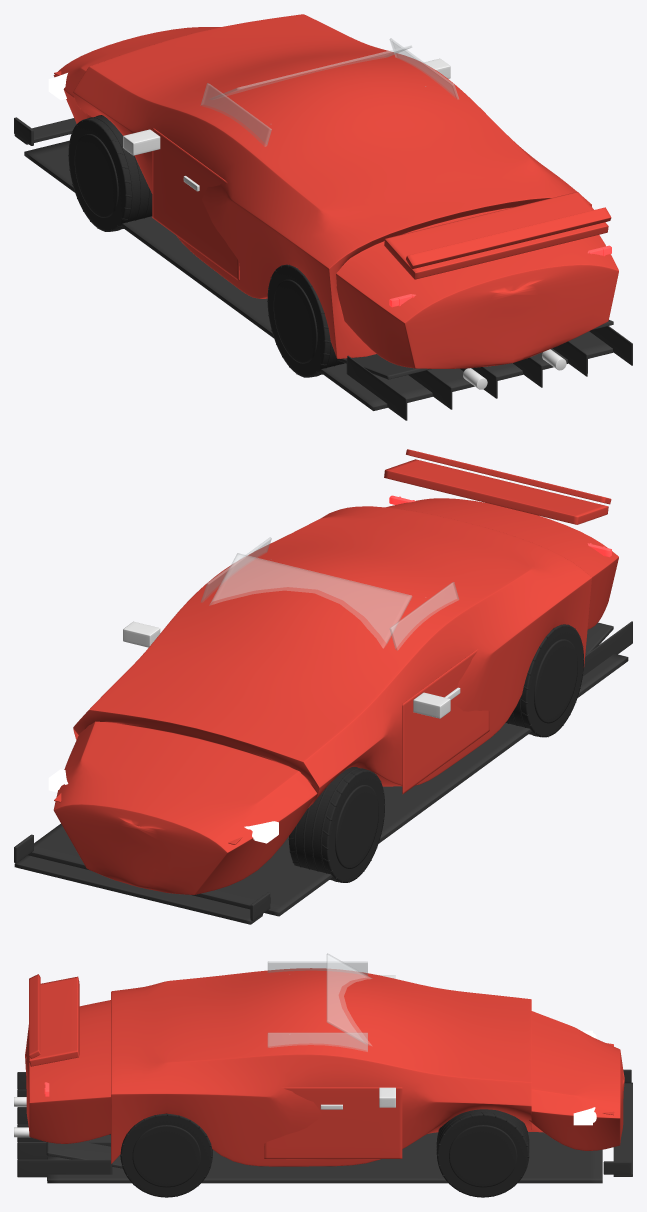
Rendered from vehicle.glb.
3 views of the same model, one above another, from view 1: azimuth 30°, elevation 25°; view 2: azimuth 150°, elevation 25°; view 3: azimuth 270°, elevation 25° (orthographic). The views are drawn at different scales.
Parts seen in each view (by area): view 1: BODY_MainShell, UNDERBODY_FlatFloor, AERO_SCRS_WhaleTailWing, WHEEL_FL_Tire, BODY_Door_FL, WHEEL_RL_Tire, GLASS_Greenhouse, JEWELRY_Hardware, AERO_FrontSplitter, JEWELRY_SCRS_DualExhaust; view 2: BODY_MainShell, UNDERBODY_FlatFloor, GLASS_Greenhouse, WHEEL_FL_Tire, AERO_SCRS_WhaleTailWing, BODY_Door_FL, WHEEL_RL_Tire, AERO_FrontSplitter, JEWELRY_Hardware, LIGHTING_Headlamps; view 3: BODY_MainShell, UNDERBODY_FlatFloor, BODY_Door_FR, WHEEL_FR_Tire, WHEEL_RR_Tire, AERO_SCRS_WhaleTailWing, GLASS_Greenhouse, AERO_FrontSplitter, JEWELRY_Hardware, LIGHTING_Headlamps.
Boxes of the visible parts, box(x1,y1,x2,y2) form: BODY_MainShell: box(53, 14, 618, 368); UNDERBODY_FlatFloor: box(24, 140, 632, 420); AERO_SCRS_WhaleTailWing: box(384, 192, 611, 279); WHEEL_FL_Tire: box(68, 115, 152, 231); BODY_Door_FL: box(152, 127, 239, 281); WHEEL_RL_Tire: box(267, 264, 344, 377); GLASS_Greenhouse: box(201, 38, 458, 146); JEWELRY_Hardware: box(123, 58, 450, 191); AERO_FrontSplitter: box(14, 117, 76, 145); JEWELRY_SCRS_DualExhaust: box(463, 349, 566, 389); BODY_MainShell: box(53, 498, 618, 894); UNDERBODY_FlatFloor: box(28, 621, 632, 916); GLASS_Greenhouse: box(201, 537, 458, 650); WHEEL_FL_Tire: box(288, 767, 385, 882); AERO_SCRS_WhaleTailWing: box(384, 449, 611, 524); BODY_Door_FL: box(402, 649, 489, 794); WHEEL_RL_Tire: box(505, 624, 584, 737); AERO_FrontSplitter: box(14, 834, 270, 924); JEWELRY_Hardware: box(123, 621, 460, 718); LIGHTING_Headlamps: box(48, 769, 278, 843); BODY_MainShell: box(25, 968, 624, 1166); UNDERBODY_FlatFloor: box(17, 1072, 602, 1183); BODY_Door_FR: box(264, 1087, 402, 1159); WHEEL_FR_Tire: box(436, 1109, 529, 1197); WHEEL_RR_Tire: box(120, 1113, 212, 1197); AERO_SCRS_WhaleTailWing: box(29, 974, 79, 1066); GLASS_Greenhouse: box(267, 953, 372, 1051); AERO_FrontSplitter: box(603, 1069, 632, 1176); JEWELRY_Hardware: box(320, 975, 395, 1109); LIGHTING_Headlamps: box(573, 1030, 596, 1125).
Size of what is drawn, in the model's own units: 2.09 by 1.27 by 4.44.
